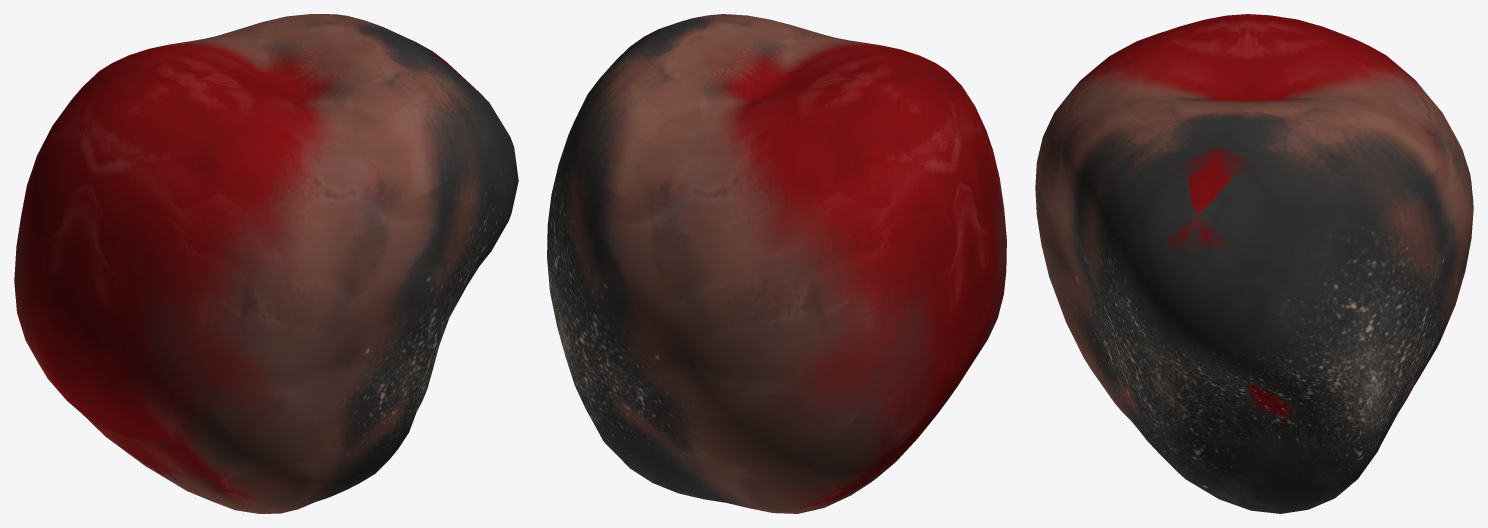
Rendered from ceriseP1.FBX.
The picture shows the model from 3 angles, left to right: view 1: azimuth 30°, elevation 25°; view 2: azimuth 150°, elevation 25°; view 3: azimuth 270°, elevation 25°; orthographic projection. The views are drawn at different scales.
Parts seen in each view (by area): view 1: Cerise_Negatif_01; view 2: Cerise_Negatif_01; view 3: Cerise_Negatif_01.
Part boxes in pixels (left/top/right/bottom): Cerise_Negatif_01: left=14, top=14, right=518, bottom=513; Cerise_Negatif_01: left=547, top=14, right=1006, bottom=513; Cerise_Negatif_01: left=1035, top=14, right=1473, bottom=513.
Size of the model in its own units: 0.8491 by 0.8643 by 0.8184.
